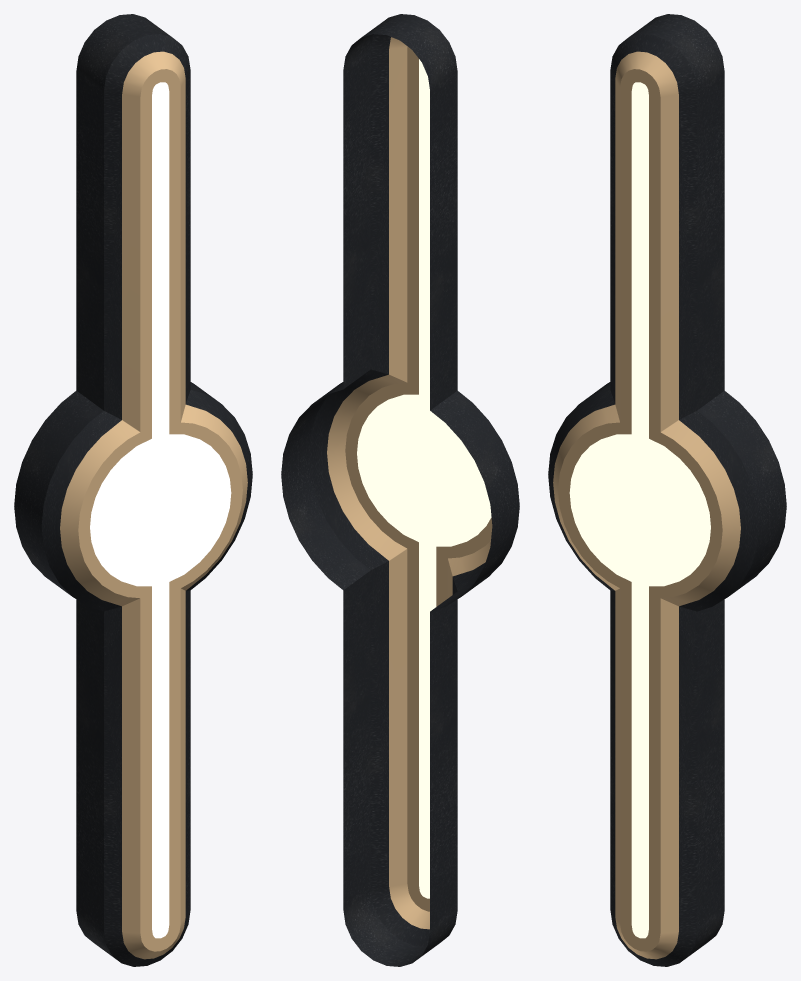
File: shopZoneColorPicker.ValueHandle.gltf
3 views of the same model, side by side, from view 1: azimuth 30°, elevation 25°; view 2: azimuth 150°, elevation 25°; view 3: azimuth 330°, elevation 25° (orthographic).
Parts seen in each view (by area): view 1: handle; view 2: handle; view 3: handle.
Part boxes in pixels (x1=…): handle: x1=14, y1=14, x2=252, y2=966; handle: x1=281, y1=14, x2=519, y2=966; handle: x1=548, y1=14, x2=786, y2=966.
Size of the model in its own units: 0.074 by 0.3116 by 0.0248.
3 materials, 1 textured.
